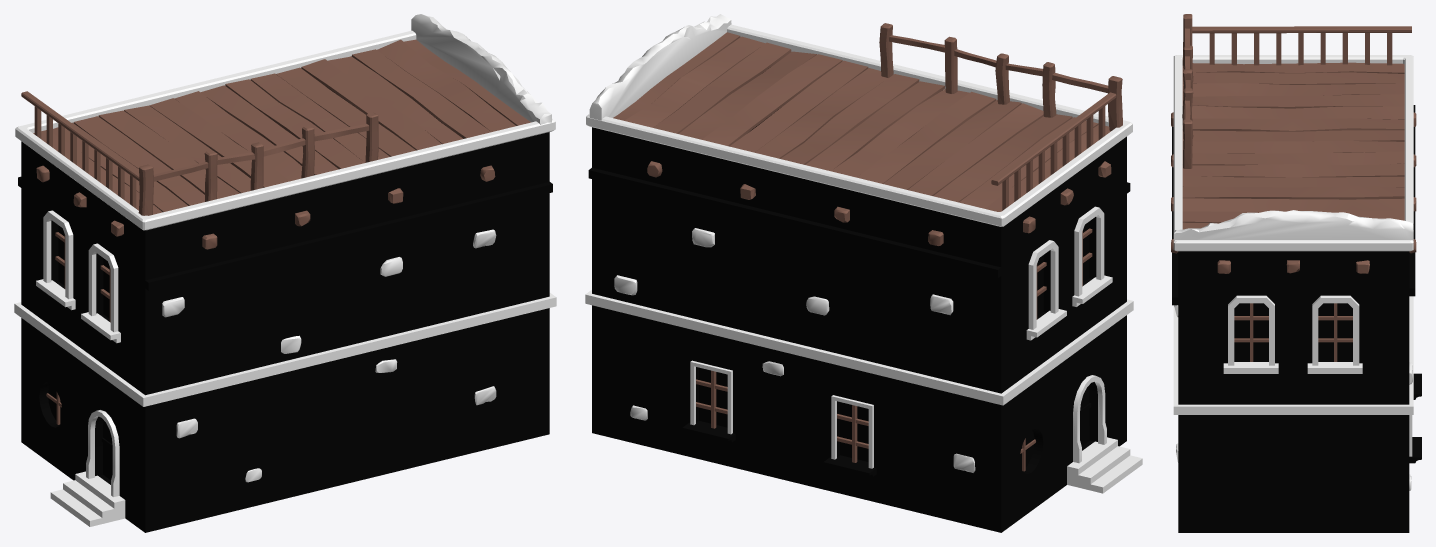
The model's file is civilian_house_04.FBX.
3 views of the same model, side by side, from view 1: azimuth 30°, elevation 25°; view 2: azimuth 150°, elevation 25°; view 3: azimuth 270°, elevation 25° (orthographic). The views are drawn at different scales.
Visible parts, largest first — view 1: civilian_house_04_LOD0; view 2: civilian_house_04_LOD0; view 3: civilian_house_04_LOD0.
Boxes of the visible parts, <box> form: civilian_house_04_LOD0: <box>14,14,556,532</box>; civilian_house_04_LOD0: <box>585,14,1142,532</box>; civilian_house_04_LOD0: <box>1171,14,1421,532</box>.
Size of what is drawn, in the model's own units: 1572 by 1204 by 815.
